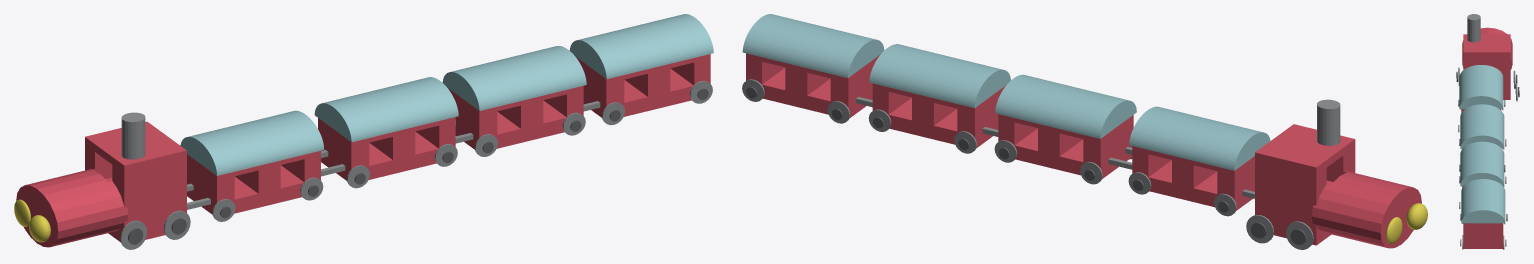
File: Funky Albar.glb
3 renders of one model, left to right at view 1: azimuth 30°, elevation 25°; view 2: azimuth 150°, elevation 25°; view 3: azimuth 270°, elevation 25°, orthographic. The views are drawn at different scales.
Visible parts, largest first — view 1: Mesh_Mesh_head_geo.001_lambert2SG.001; view 2: Mesh_Mesh_head_geo.001_lambert2SG.001; view 3: Mesh_Mesh_head_geo.001_lambert2SG.001.
Part boxes in pixels (x1,y1,x2,y2): Mesh_Mesh_head_geo.001_lambert2SG.001: (14, 14, 713, 249); Mesh_Mesh_head_geo.001_lambert2SG.001: (742, 14, 1427, 249); Mesh_Mesh_head_geo.001_lambert2SG.001: (1456, 14, 1519, 249).
Bounding box in the file's own units: 451 × 79 × 61.46.
